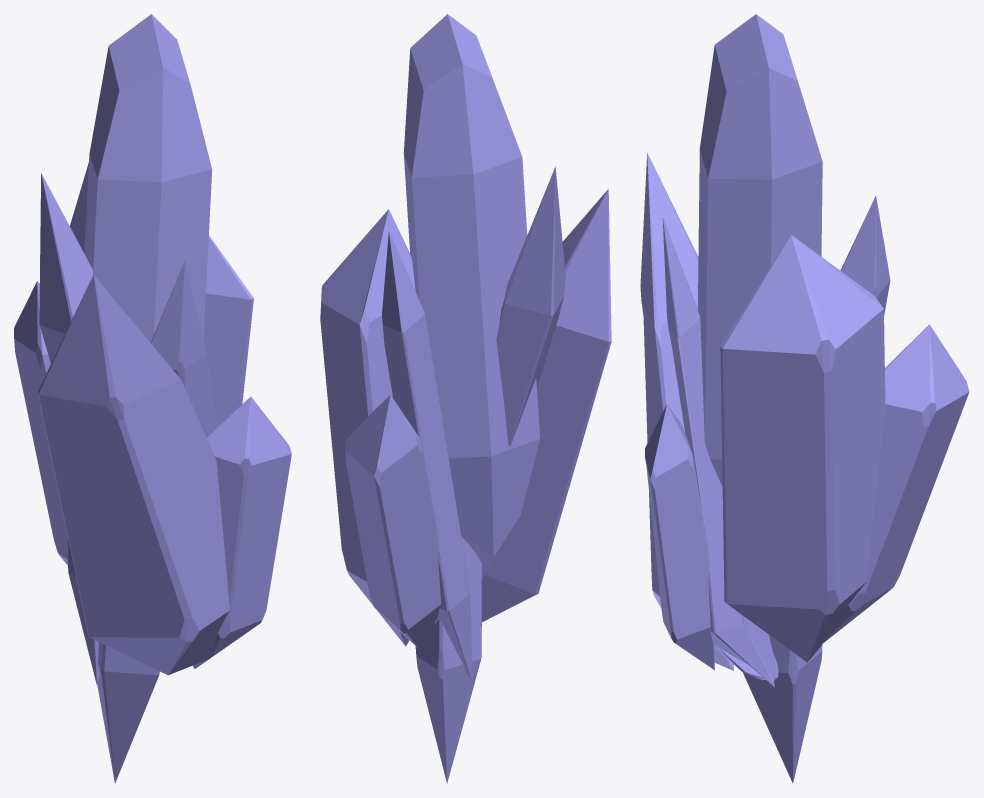
Rendered from GripCrystal 5.fbx.
3 views of the same model, side by side, from view 1: azimuth 30°, elevation 25°; view 2: azimuth 150°, elevation 25°; view 3: azimuth 270°, elevation 25° (orthographic). The views are drawn at different scales.
Visible parts, largest first — view 1: GripCrystal 5; view 2: GripCrystal 5; view 3: GripCrystal 5.
Part boxes in pixels (<box>): GripCrystal 5: <box>14,14,291,783</box>; GripCrystal 5: <box>320,14,611,783</box>; GripCrystal 5: <box>640,14,969,783</box>.
Bounding box in the file's own units: 5.3 × 4.44 × 13.83.
